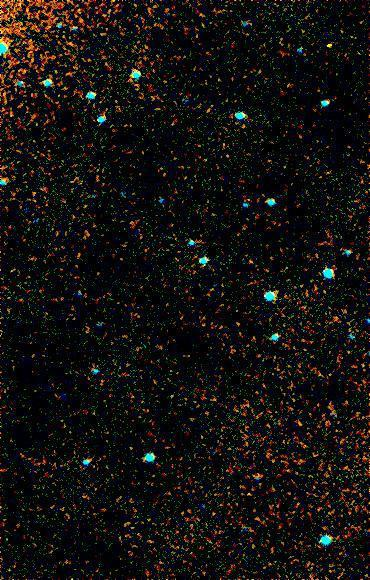star: (313, 31, 343, 61)
